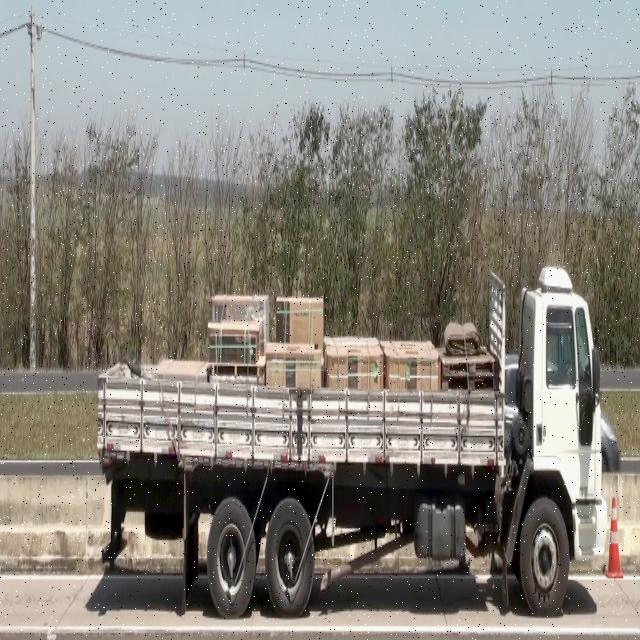-axle: (520, 498, 570, 614), (207, 499, 256, 617), (266, 498, 314, 618)
